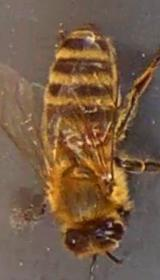varroa_mite: (80, 120, 107, 152)
